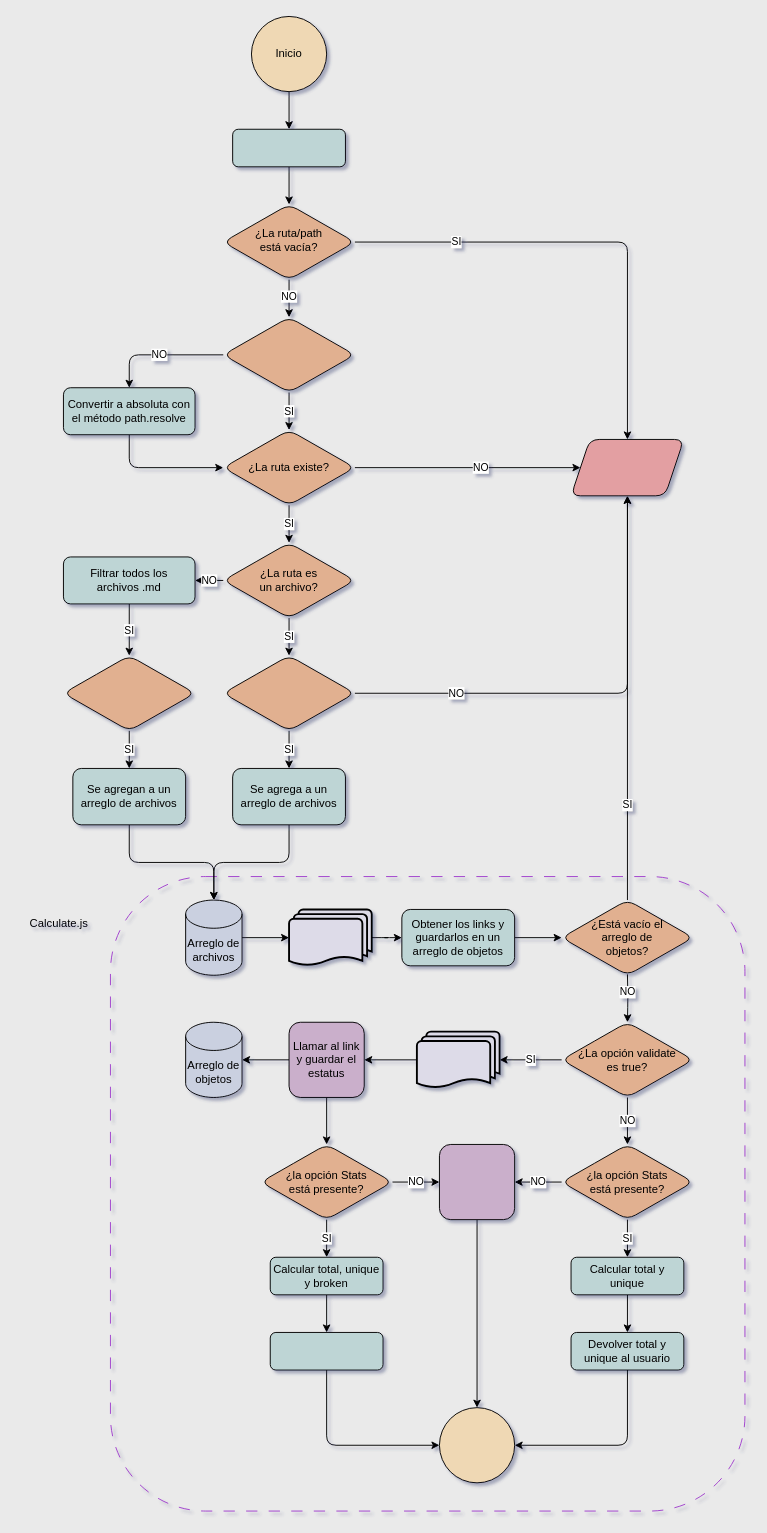
This 767x1533 diagram has some shape labels left out. Each missing label, with the centre of its shape:
"Devolver el arreglo de objetos al usuario" goes at pixel 477 1182.
"Devolver total, unique y broken al usuario" goes at pixel 326 1351.
"Fin" goes at pixel 477 1445.
"Mostrar error" goes at pixel 627 467.
"Obtener la ruta/path" goes at pixel 288 147.
"Para cada archivo" goes at pixel 330 937.
"Para cada link" goes at pixel 457 1059.
"¿El archivo es un .md?" goes at pixel 288 693.
"¿Existen archivos .md?" goes at pixel 129 693.
"¿La ruta/path es absoluta?" goes at pixel 288 354.
